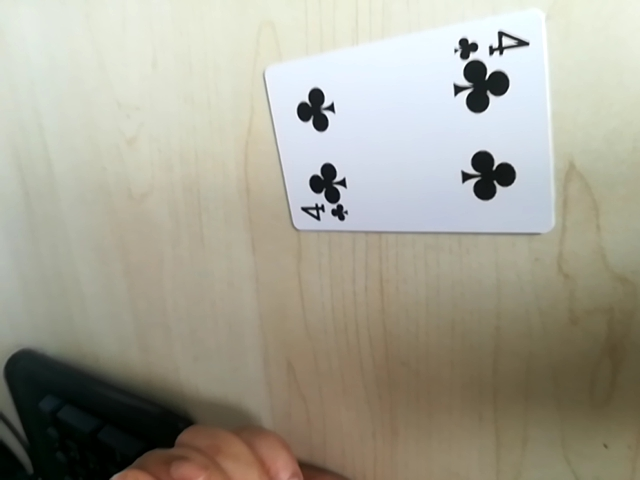mh 4: (452, 24, 535, 60), (294, 197, 350, 226)
